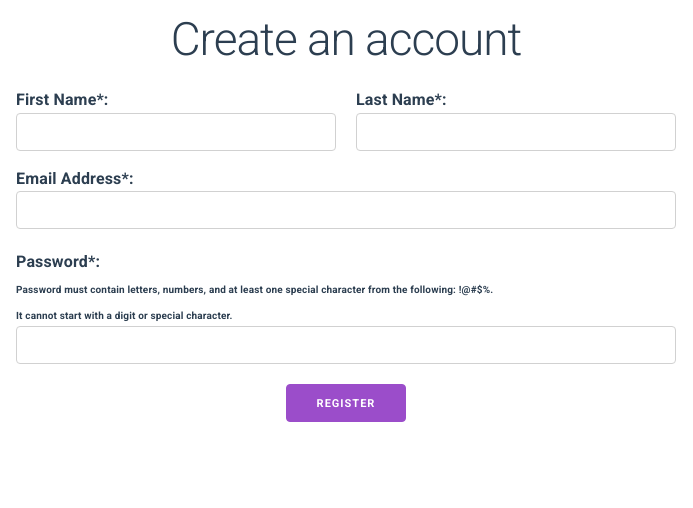
Test: submitting the signup form › on successful submit › shows an error message for incorrect signup
Type "Hello" into the field with id "firstName" at (176, 132), box [16, 113, 336, 151]
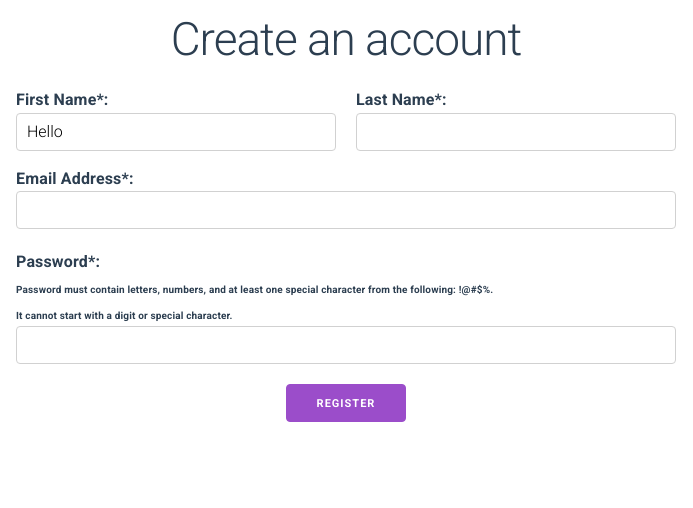
Type "World" into the field with id "lastName" at (516, 132), box [356, 113, 676, 151]
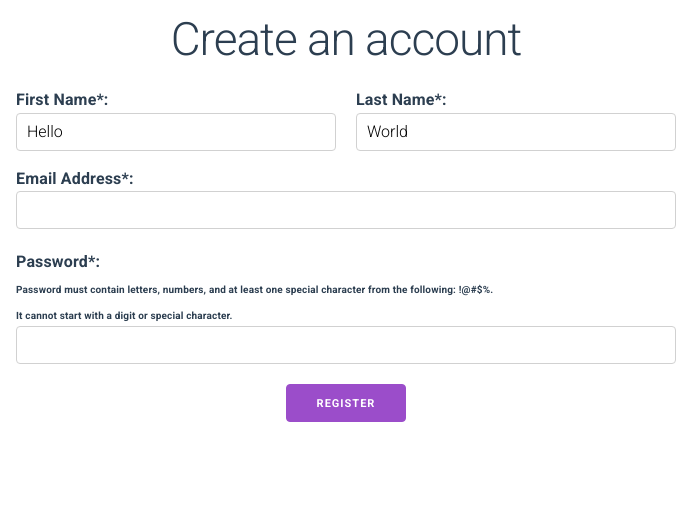
Type "hello@world.gov" into the field with id "email" at (346, 210), box [16, 191, 676, 229]
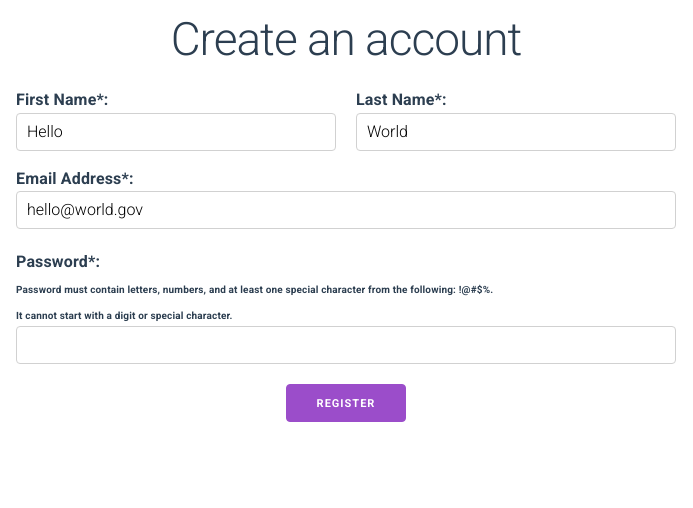
Type "Hello1234%" into the password field named "Invalid password format" at (346, 345), box [16, 326, 676, 364]
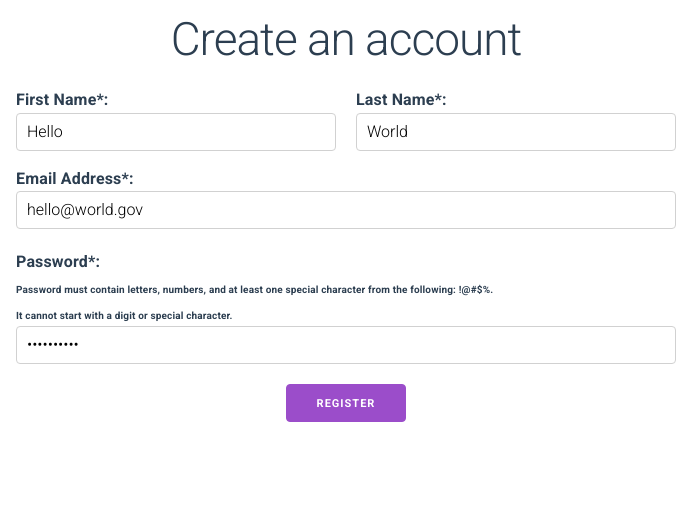
Submit the form
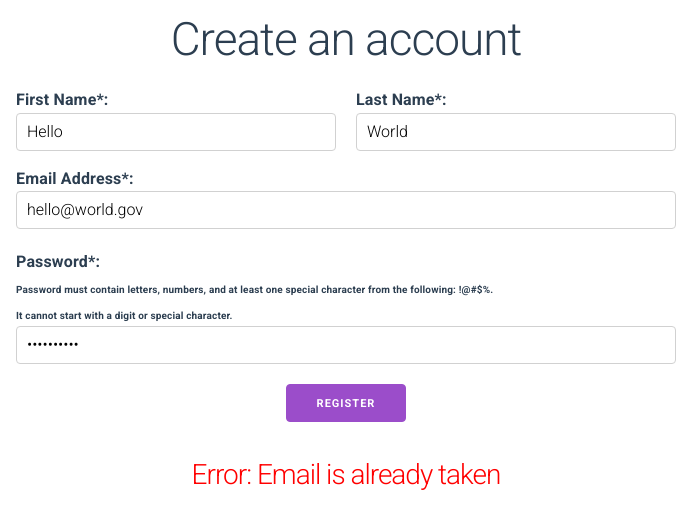
Check: the heading with id "error" reads "Error: Email is already taken", box [192, 458, 500, 491]
